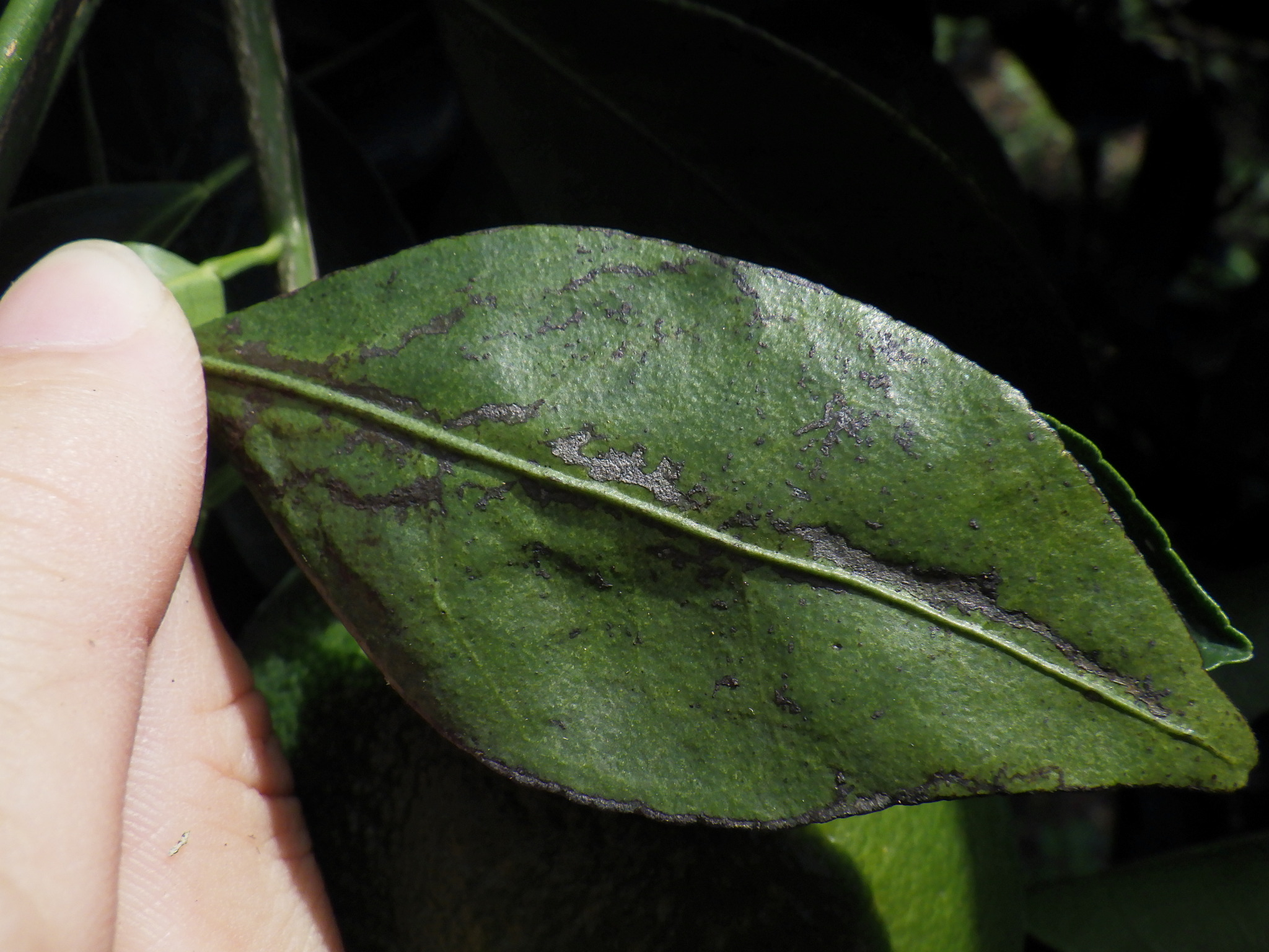Thrips_Damage: (205, 356, 1198, 827)
